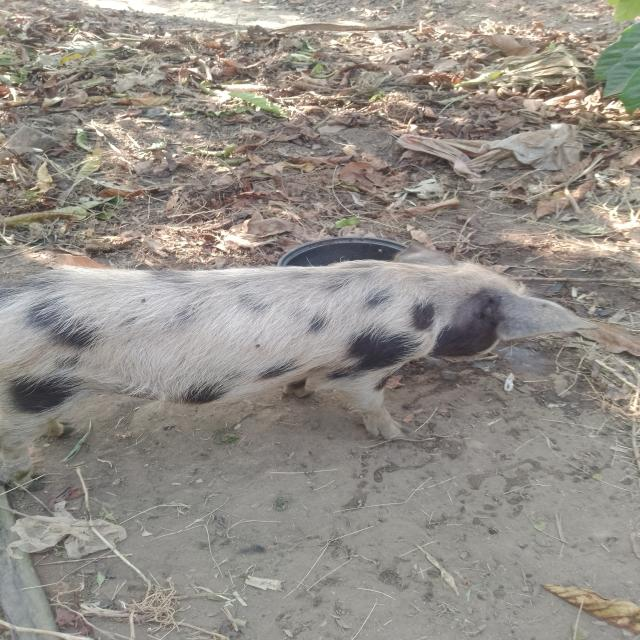pig: (0, 192, 606, 523)
